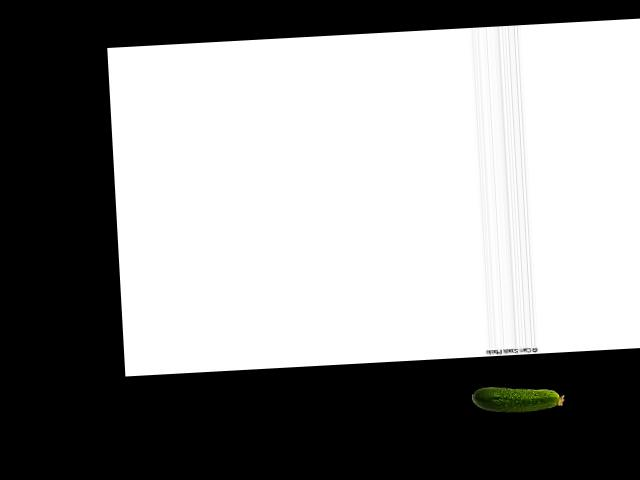cucumber: (471, 383, 564, 414)
